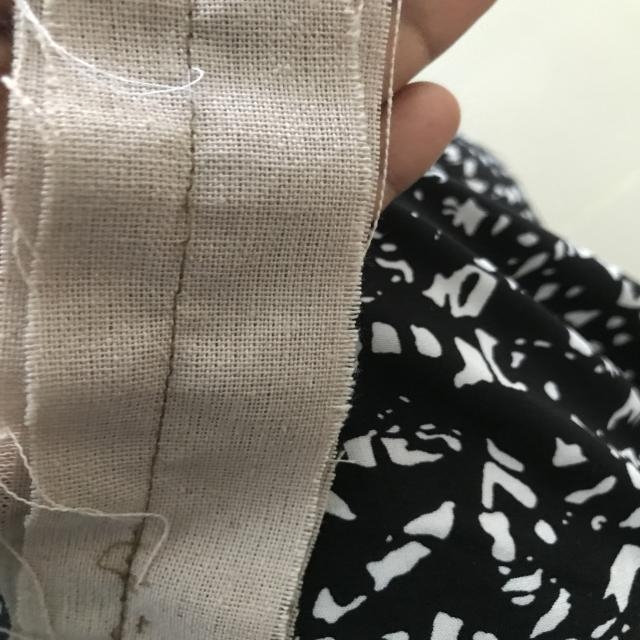skip: (154, 173, 217, 269)
